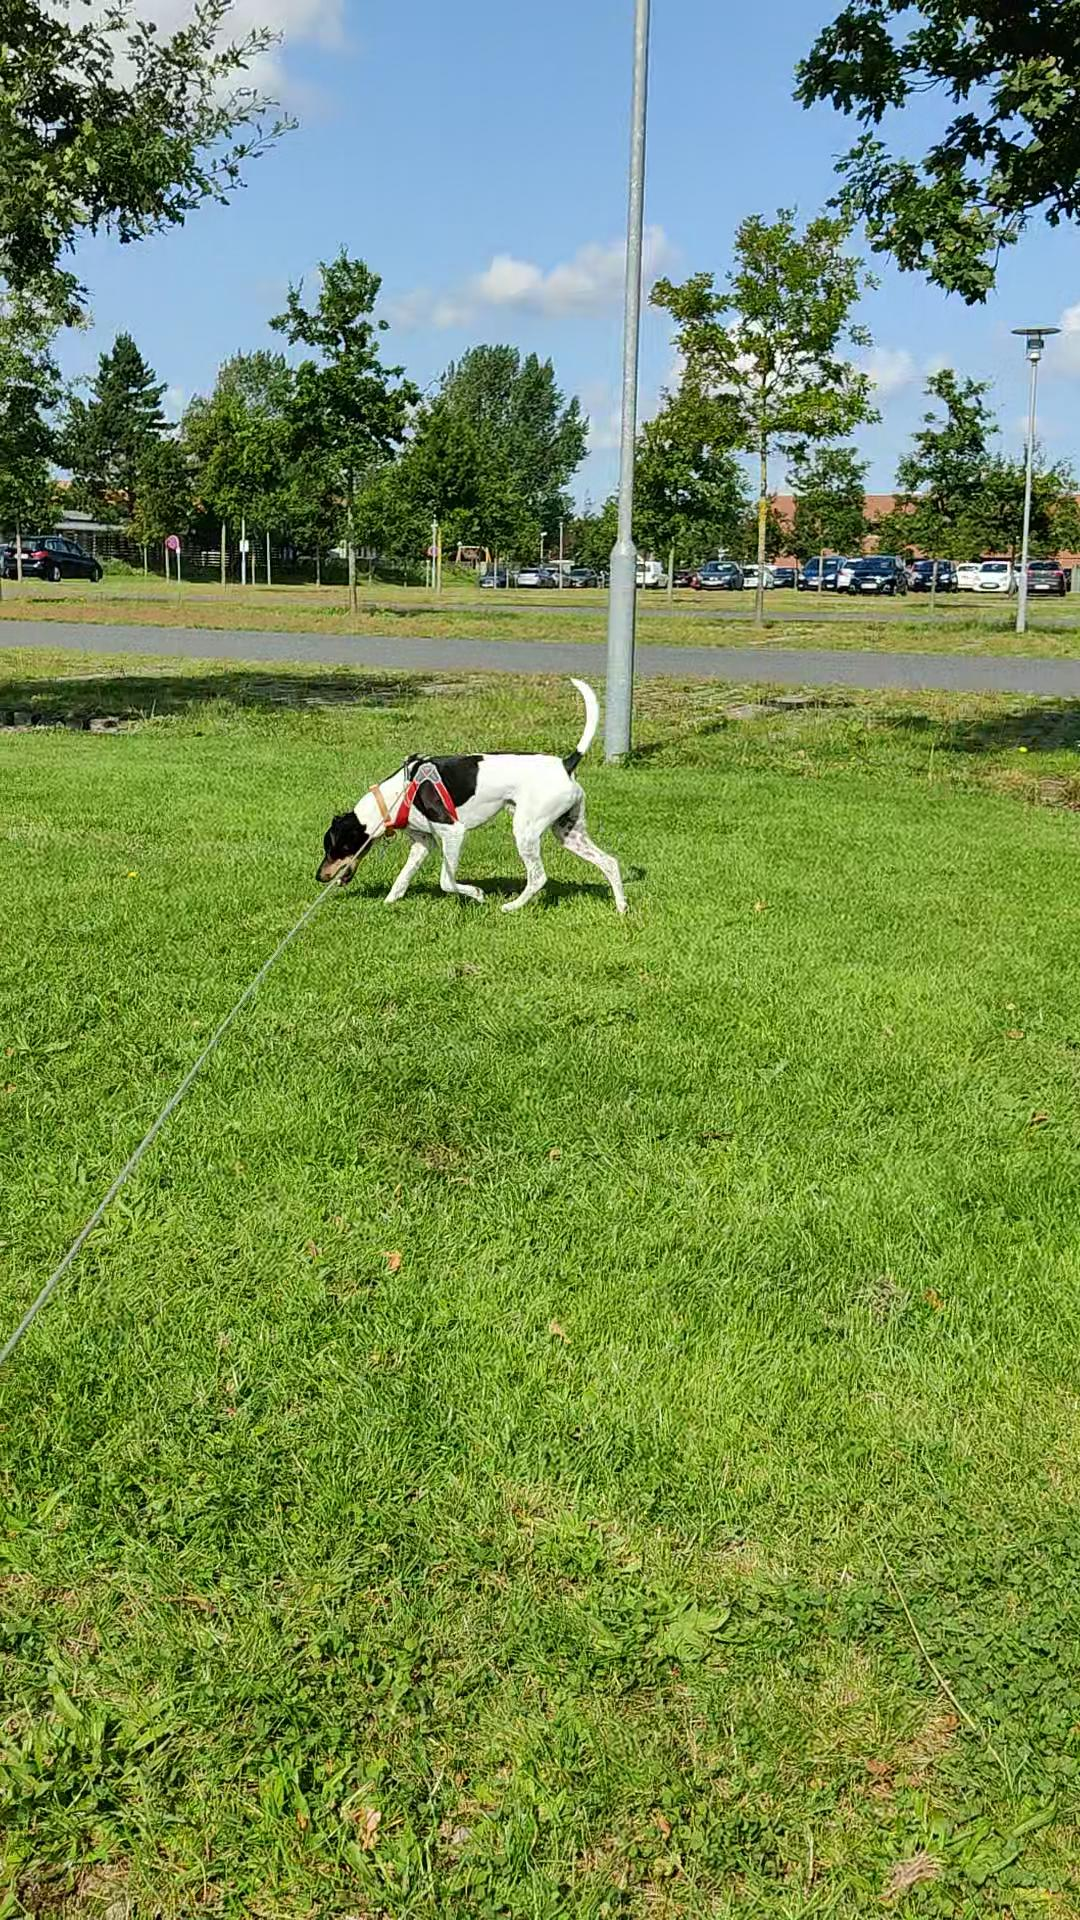Dog: (311, 671, 632, 919)
